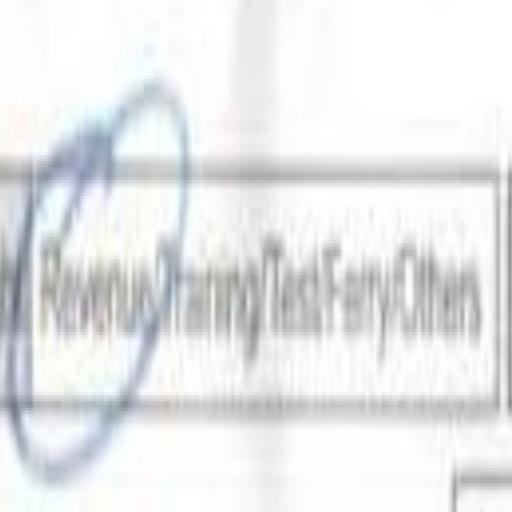check: (30, 59, 160, 507)
